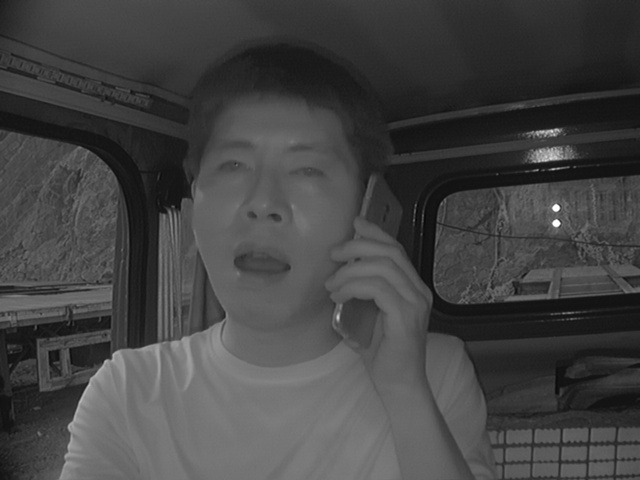hand: (327, 218, 437, 371)
